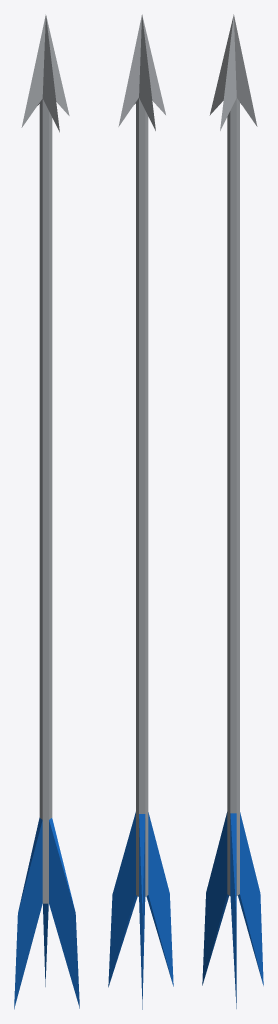
Rendered from Arrow_01.fbx.
3 views of the same model, side by side, from view 1: azimuth 30°, elevation 25°; view 2: azimuth 210°, elevation 25°; view 3: azimuth 330°, elevation 25° (orthographic).
Visible parts, largest first — view 1: Arrow_01; view 2: Arrow_01; view 3: Arrow_01.
Boxes of the visible parts, x1,y1,x2,y2 form: Arrow_01: [14, 14, 79, 1009]; Arrow_01: [108, 14, 173, 1009]; Arrow_01: [202, 14, 263, 1008].
Bounding box in the file's own units: 81.3 × 1379 × 78.17.
